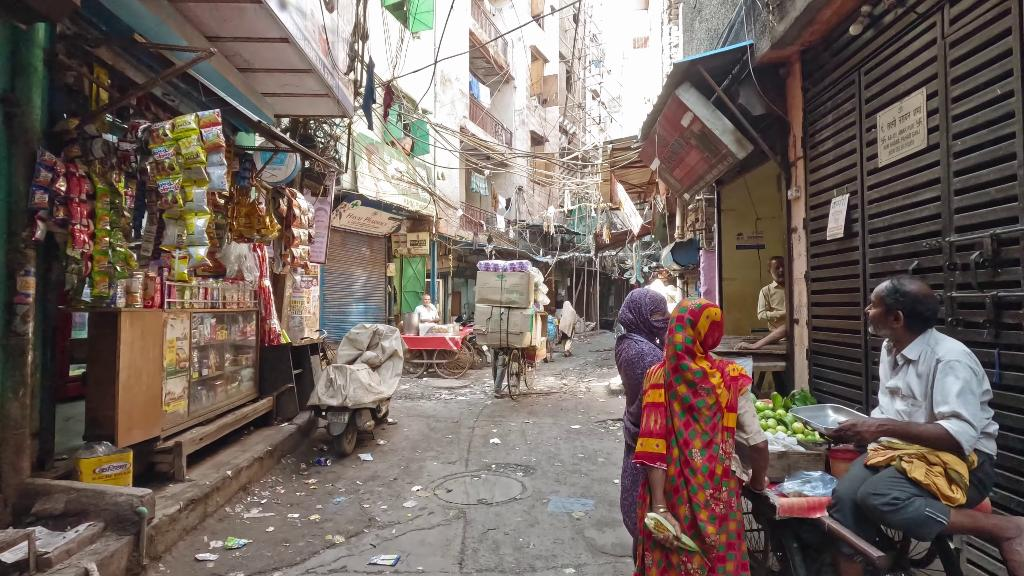garbage: (196, 529, 253, 566), (367, 547, 407, 574), (355, 448, 375, 467), (401, 496, 419, 515)
